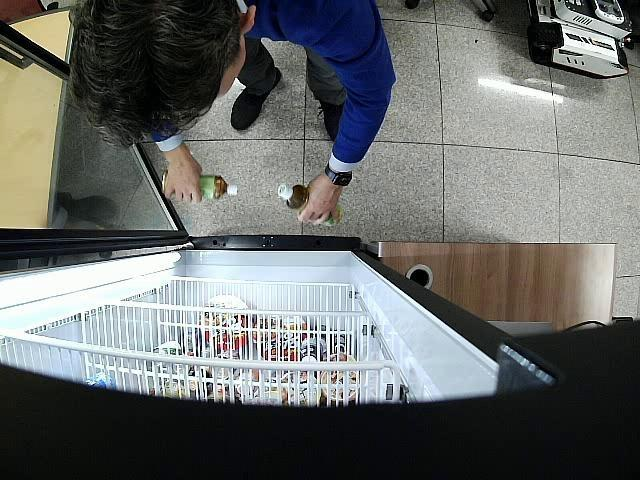19_17cha: (277, 183, 342, 226), (162, 168, 237, 200)
